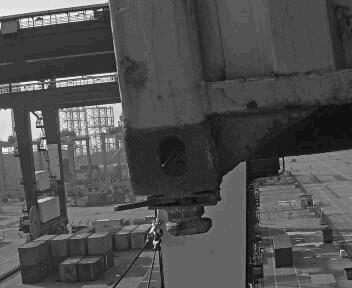twist_lock_1: (127, 188, 224, 244)
